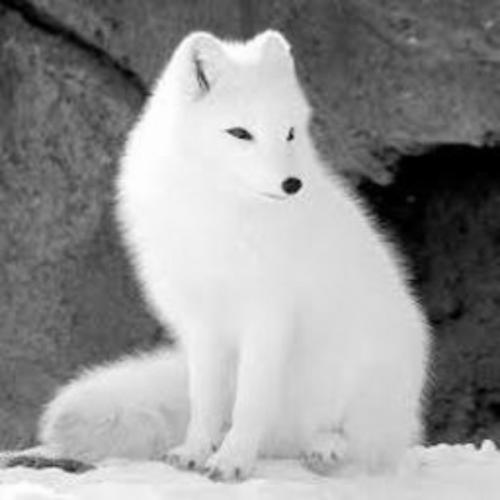arctic_fox-endangered: (40, 28, 433, 486)
